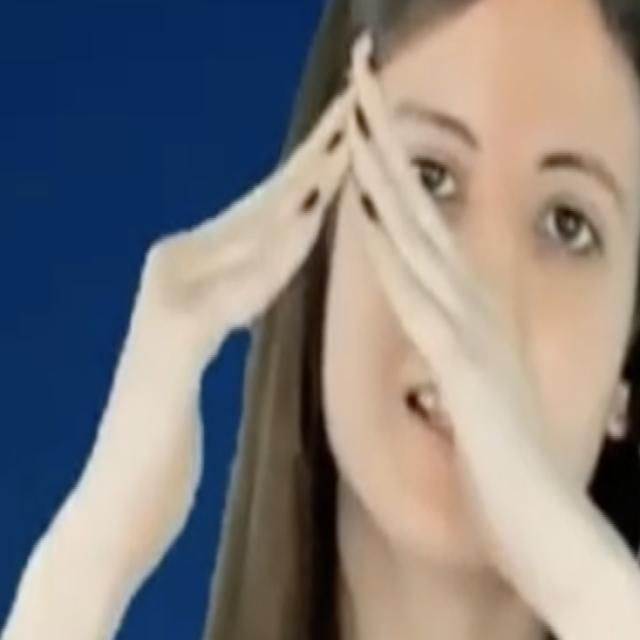casa: (28, 22, 594, 614)
